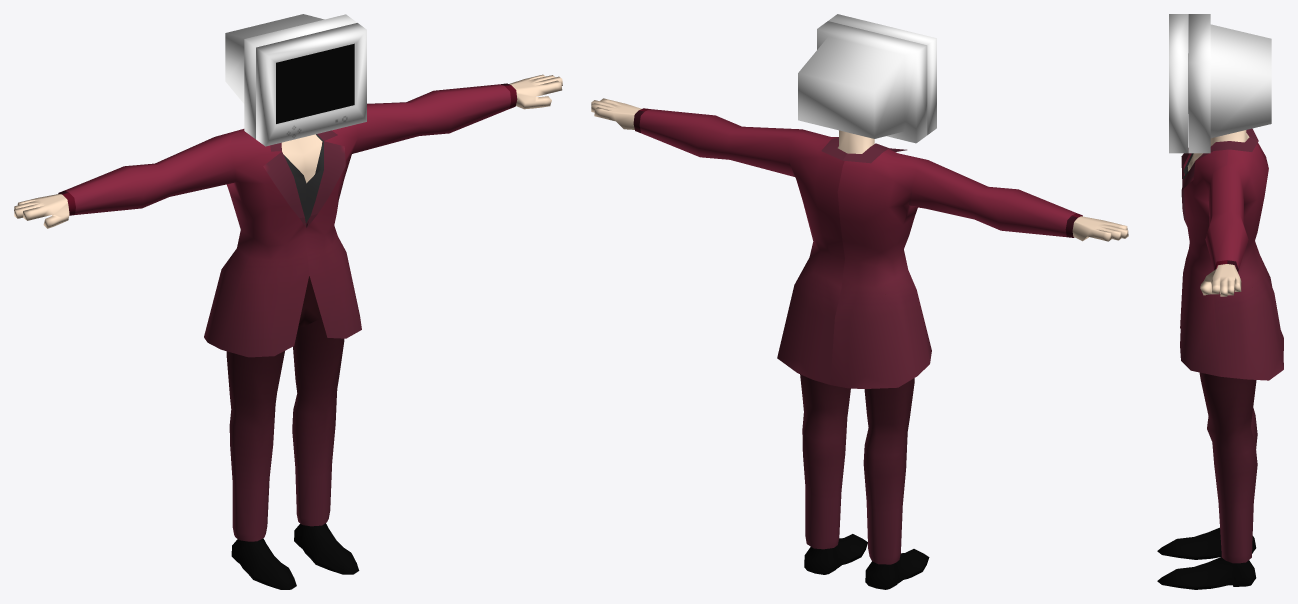
Rendered from FullSkull.obj.
3 renders of one model, left to right at view 1: azimuth 30°, elevation 25°; view 2: azimuth 150°, elevation 25°; view 3: azimuth 270°, elevation 25°, orthographic. The views are drawn at different scales.
Visible parts, largest first — view 1: FullSkull; view 2: FullSkull; view 3: FullSkull.
Boxes of the visible parts, x1=… form: FullSkull: x1=14, y1=14, x2=562, y2=589; FullSkull: x1=591, y1=14, x2=1128, y2=589; FullSkull: x1=1157, y1=14, x2=1283, y2=589.
Bounding box in the file's own units: 8.08 × 7.59 × 1.65.
